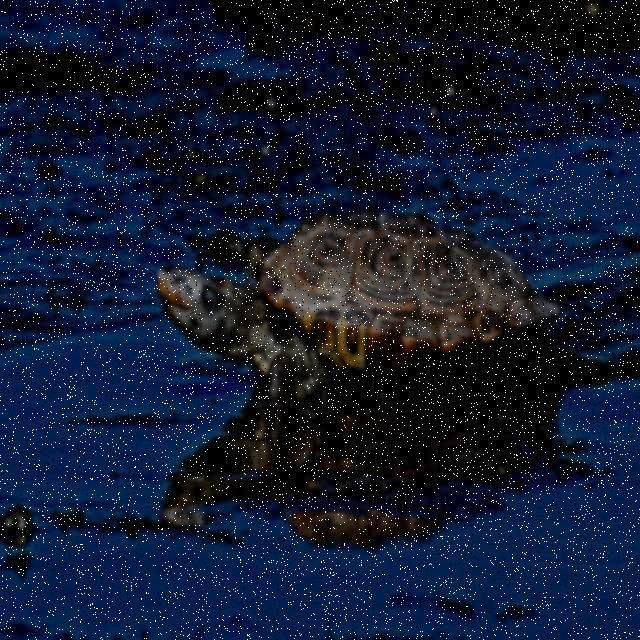tortoise: (150, 208, 548, 408)
